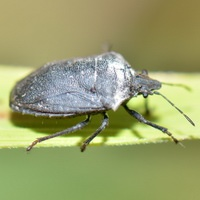insect: (10, 51, 178, 150)
